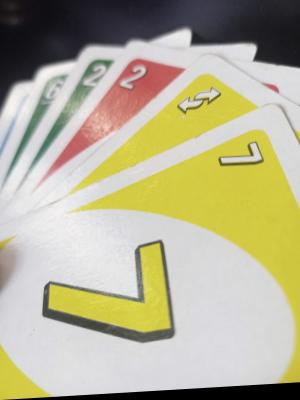green: (40, 76, 72, 126)
num_2: (80, 60, 113, 100)
num_7: (34, 225, 215, 387), (208, 131, 275, 207)
red: (118, 59, 158, 119)
reverse: (174, 74, 235, 126)
